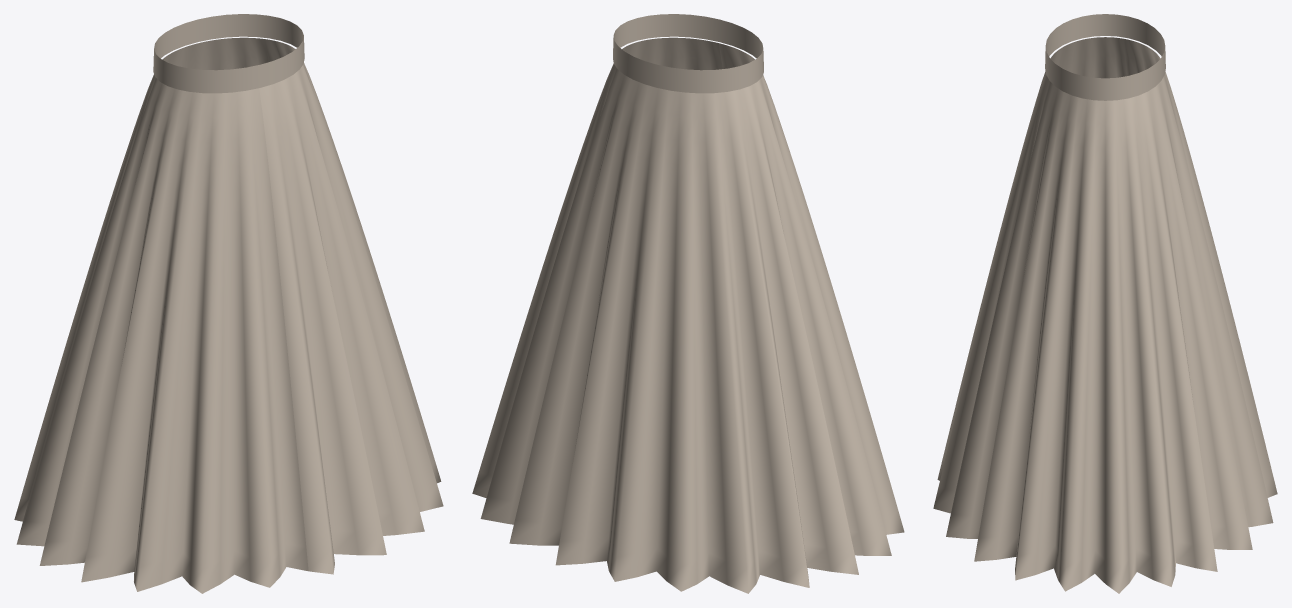
The picture shows the model from 3 angles, left to right: view 1: azimuth 30°, elevation 25°; view 2: azimuth 150°, elevation 25°; view 3: azimuth 270°, elevation 25°; orthographic projection. The views are drawn at different scales.
Visible parts, largest first — view 1: skirt_body, waistband; view 2: skirt_body, waistband; view 3: skirt_body, waistband.
Part boxes in pixels (<box>): skirt_body: <box>14,37,443,593</box>; waistband: <box>153,14,304,93</box>; skirt_body: <box>472,37,904,593</box>; waistband: <box>613,14,763,93</box>; skirt_body: <box>933,37,1277,593</box>; waistband: <box>1045,14,1165,100</box>.
Bounding box in the file's own units: 0.7156 × 0.82 × 0.5623.
